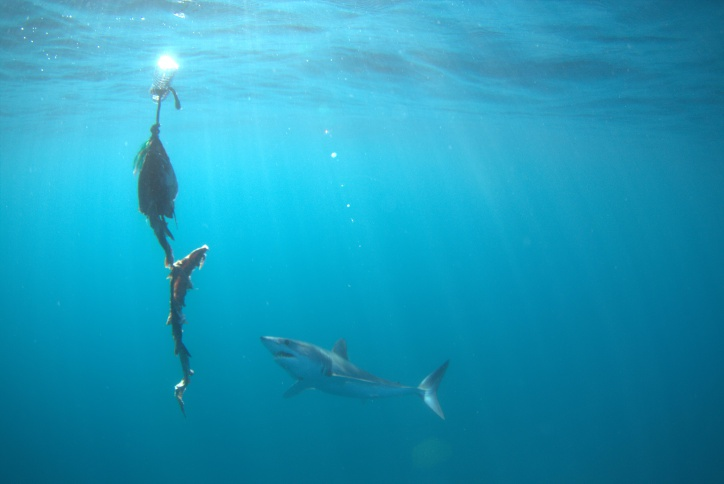Mako: (254, 307, 463, 433)
